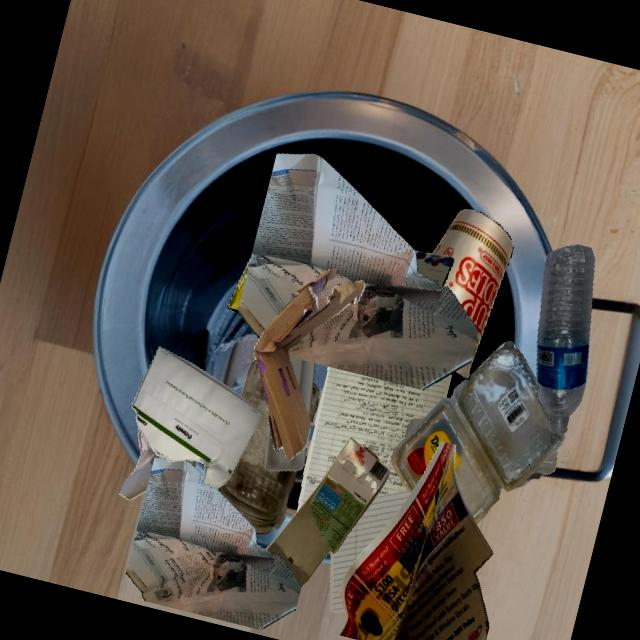cardboard: (253, 268, 364, 459), (265, 437, 389, 587), (413, 250, 454, 286)
glass: (217, 359, 296, 534)
paper: (237, 153, 478, 390), (125, 457, 301, 630), (339, 441, 492, 640), (296, 367, 451, 512), (131, 346, 261, 488), (329, 490, 410, 612), (118, 426, 166, 500)
plastic: (390, 340, 564, 524), (536, 244, 594, 434), (423, 418, 557, 488), (264, 424, 306, 470), (288, 357, 314, 418)
trash: (431, 208, 513, 379), (227, 254, 252, 312)
